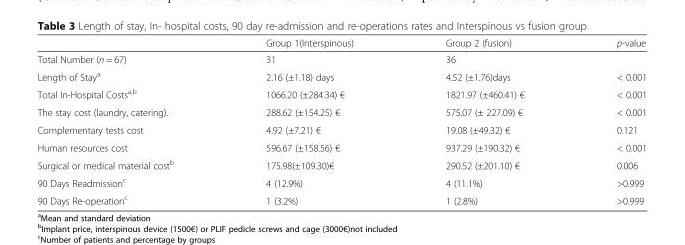table: (36, 36, 646, 206)
table column: (36, 36, 219, 206), (219, 36, 398, 206), (398, 36, 569, 206), (569, 36, 646, 206)
table column header: (36, 36, 646, 50)
table row: (36, 84, 646, 103), (36, 66, 646, 84), (36, 120, 646, 138), (36, 155, 646, 173), (36, 103, 646, 120), (36, 138, 646, 155), (36, 173, 646, 190), (36, 50, 646, 66), (36, 190, 646, 206), (36, 36, 646, 50)
